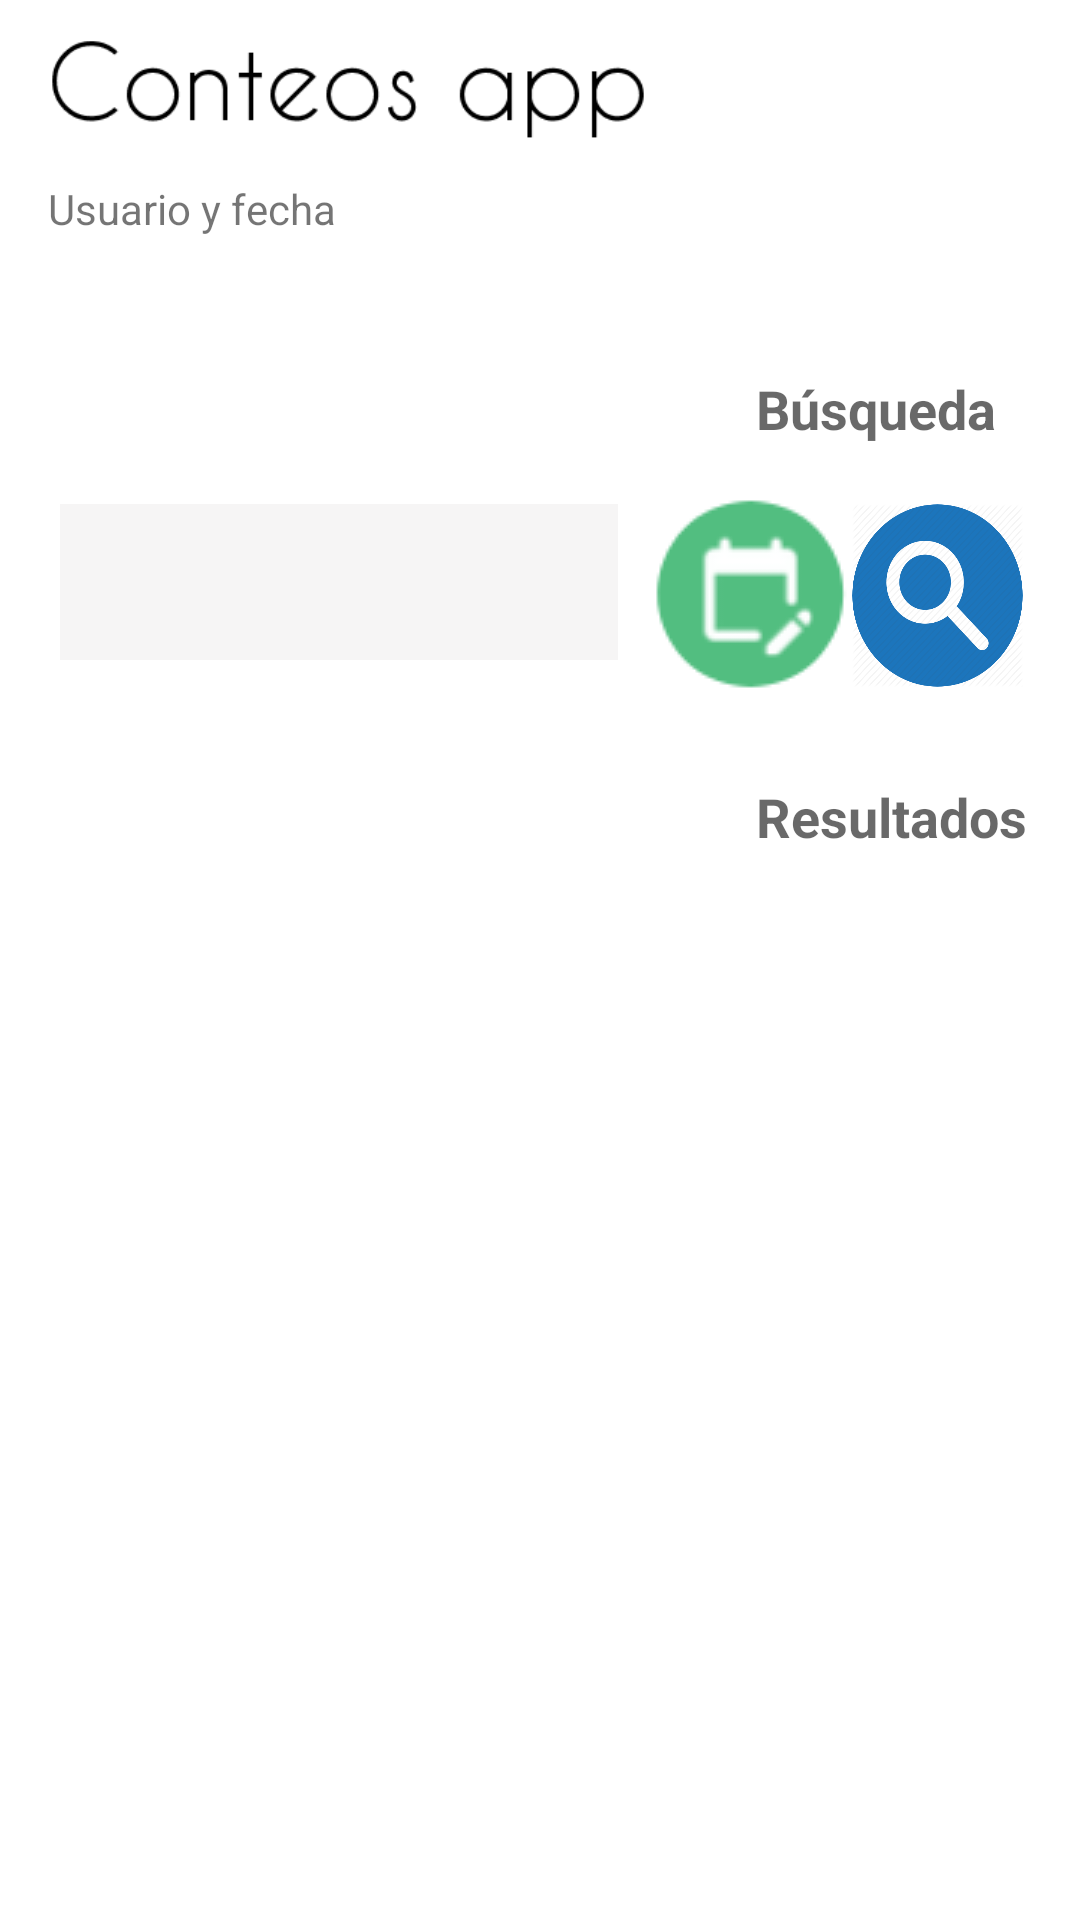

Icon bounding boxes for this 1080w x 1920h phone screenshot, format bbox(x1, y1, x2, y2):
date: bbox(656, 500, 844, 688)
lupa: bbox(852, 504, 1023, 687)
